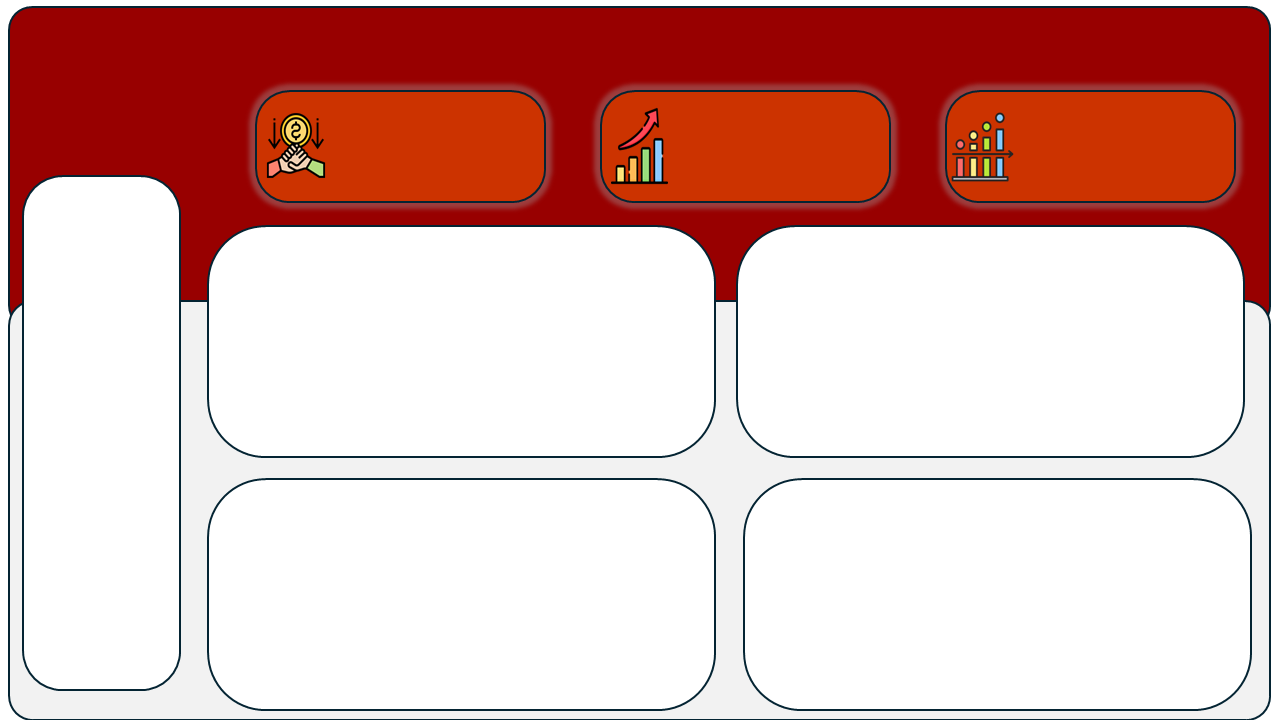

What the dashboard file says about the page in this screenshot:
{"tool":"powerbi","page":{"name":"Home","canvas":[1280,720],"ordinal":0},"visuals":[{"type":"image","box":[44.6,394.5,250.9,174.9],"z":0},{"type":"textbox","box":[133.9,136.3,1009.8,161.7],"z":1000},{"type":"textbox","box":[44.6,582.7,250.9,45.8],"z":2000},{"type":"textbox","box":[361.9,582.7,250.9,45.8],"z":3000},{"type":"textbox","box":[652.7,582.7,302.8,45.8],"z":4000},{"type":"textbox","box":[986.9,582.7,250.9,45.8],"z":5000},{"type":"image","box":[361.9,407.8,250.9,174.9],"z":6000},{"type":"image","box":[679.2,407.8,249.7,174.9],"z":7000},{"type":"image","box":[1005,394.5,214.7,174.9],"z":8000}]}

Visuals, with their boxes in screenshot pixels (x1, y1, x2, y2), scaled from the page's 1280x720 canvas onto the 1280x720 screenshot:
image: {"x1": 45, "y1": 394, "x2": 296, "y2": 569}
textbox: {"x1": 134, "y1": 136, "x2": 1144, "y2": 298}
textbox: {"x1": 45, "y1": 583, "x2": 296, "y2": 628}
textbox: {"x1": 362, "y1": 583, "x2": 613, "y2": 628}
textbox: {"x1": 653, "y1": 583, "x2": 956, "y2": 628}
textbox: {"x1": 987, "y1": 583, "x2": 1238, "y2": 628}
image: {"x1": 362, "y1": 408, "x2": 613, "y2": 583}
image: {"x1": 679, "y1": 408, "x2": 929, "y2": 583}
image: {"x1": 1005, "y1": 394, "x2": 1220, "y2": 569}
